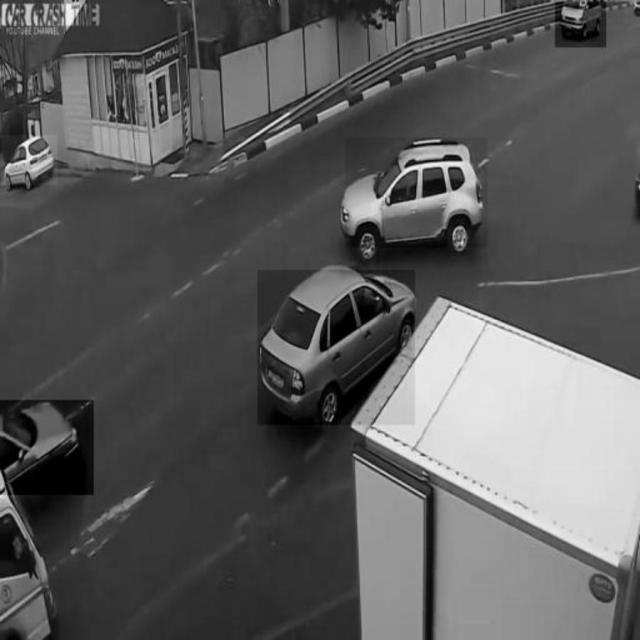vehicle: (257, 270, 415, 424), (344, 139, 488, 249), (1, 400, 94, 494), (1, 136, 57, 186), (556, 0, 607, 47)
